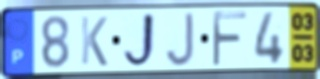4: (252, 10, 286, 66)
8: (39, 14, 72, 71)
F: (210, 9, 250, 69)
J: (120, 11, 159, 71), (164, 10, 196, 68)
K: (79, 15, 109, 68)
